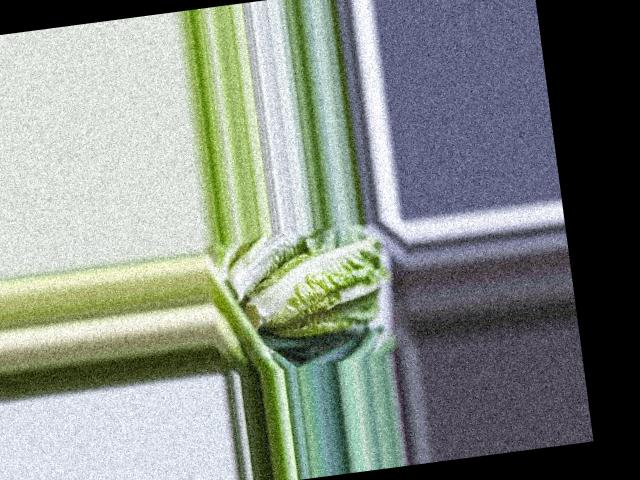lettuce: (241, 212, 412, 358)
